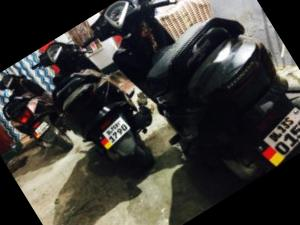plate: (90, 108, 146, 158)
